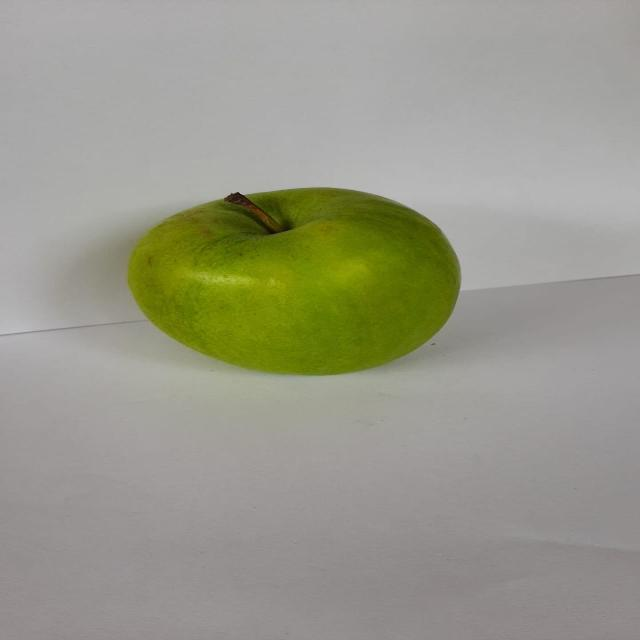50-_ripeness: (104, 174, 470, 388)
